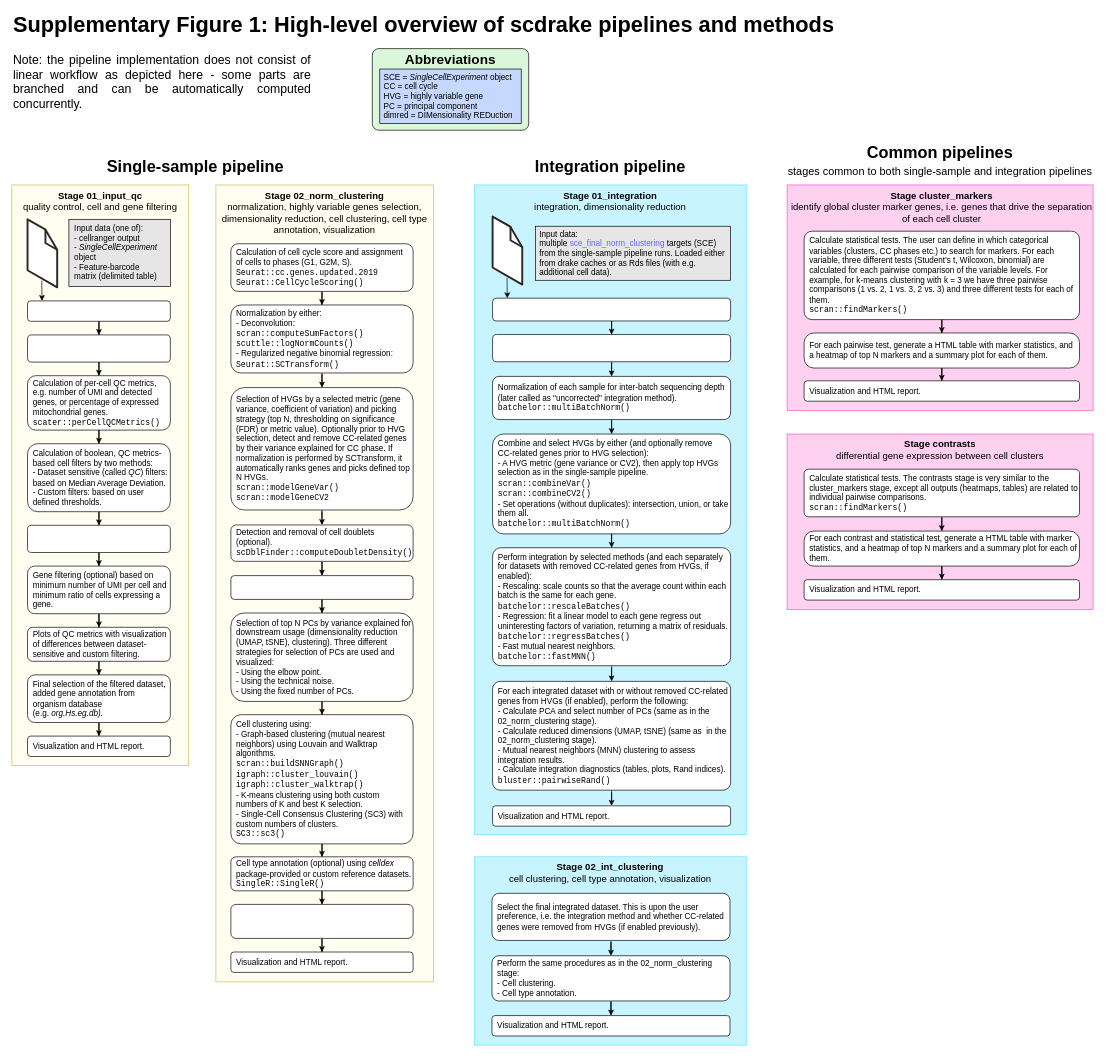
The diagram is 1105 pixels wide and 1057 high, and some of its shapes have lost their labels. The shapes that lost their labels are listed below. From the top down, each one's centre as x and y in pixels, then its label:
At point 98,310: "Read raw data.".
At point 611,309: "Read datasets.".
At point 98,348: "Removal of empty droplets (optional). DropletUtils::emptyDrops()".
At point 611,348: "Subset to common column (cell variables) and row data (genes), and metadata.".
At point 98,538: "Cell filtering separately for each filter (optional).".
At point 321,587: "Calculation of PCA. scater::runPCA()".
At point 321,921: "Dimensionality reduction by UMAP and tSNE. scater::runUMAP() scater::runTSNE()".
